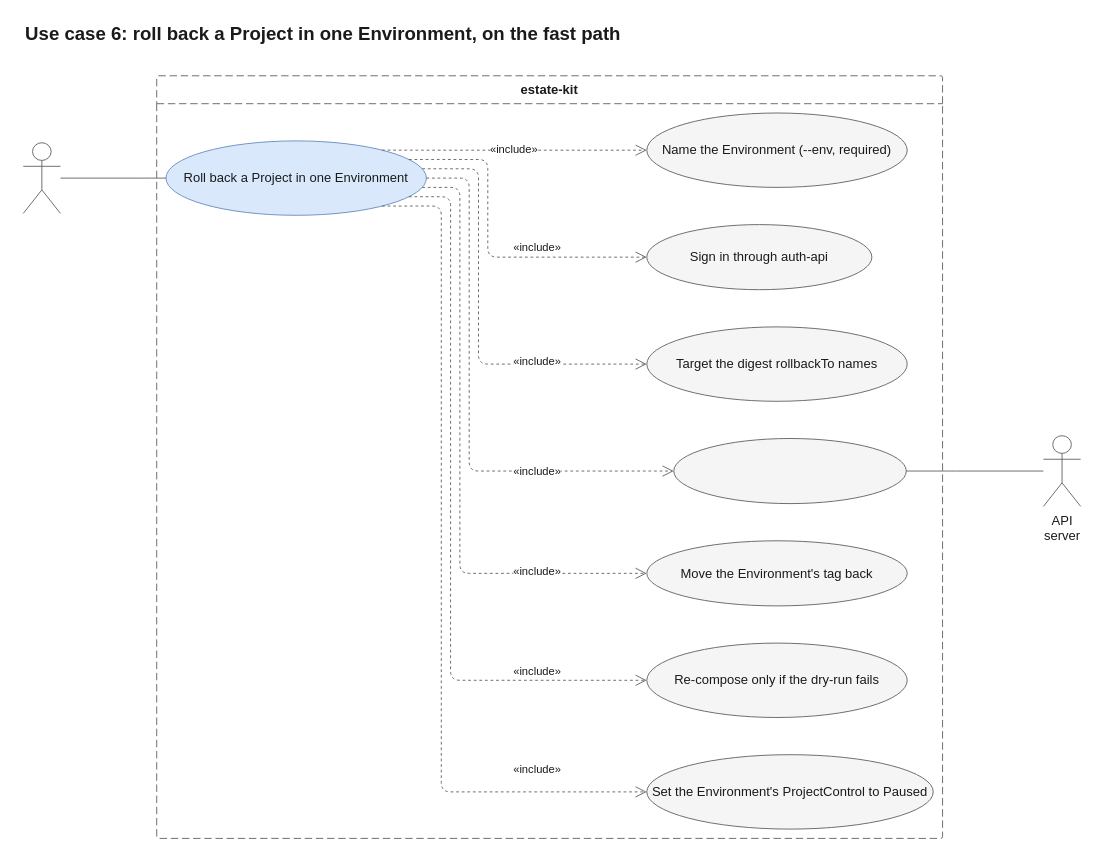
Some shapes in this 1096 by 855 pixel diagram are drawn without their labels. The box of each missing label's shape, as (x1, y1, x2, y2) in pixels:
Dry-run the target render: (673, 438, 906, 504)
Operator: (22, 142, 60, 213)
